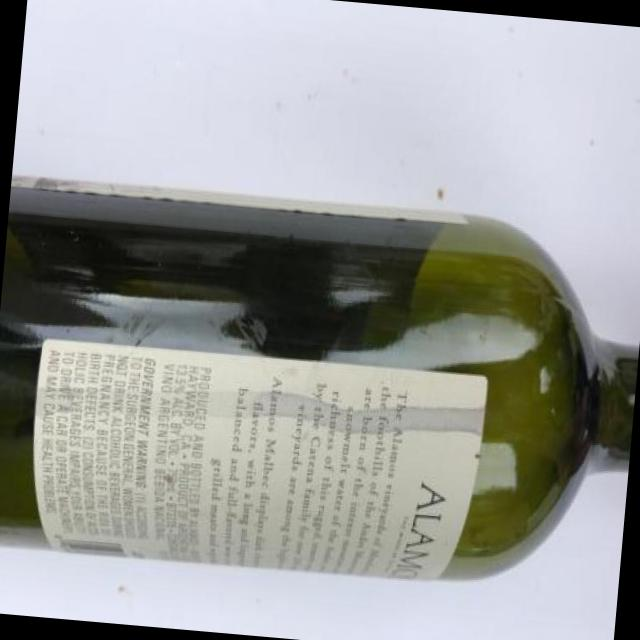BotolKaca: (0, 169, 640, 594)
